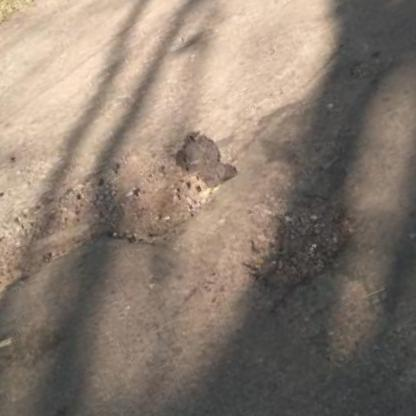pothole: (0, 122, 236, 337), (223, 177, 371, 303)
